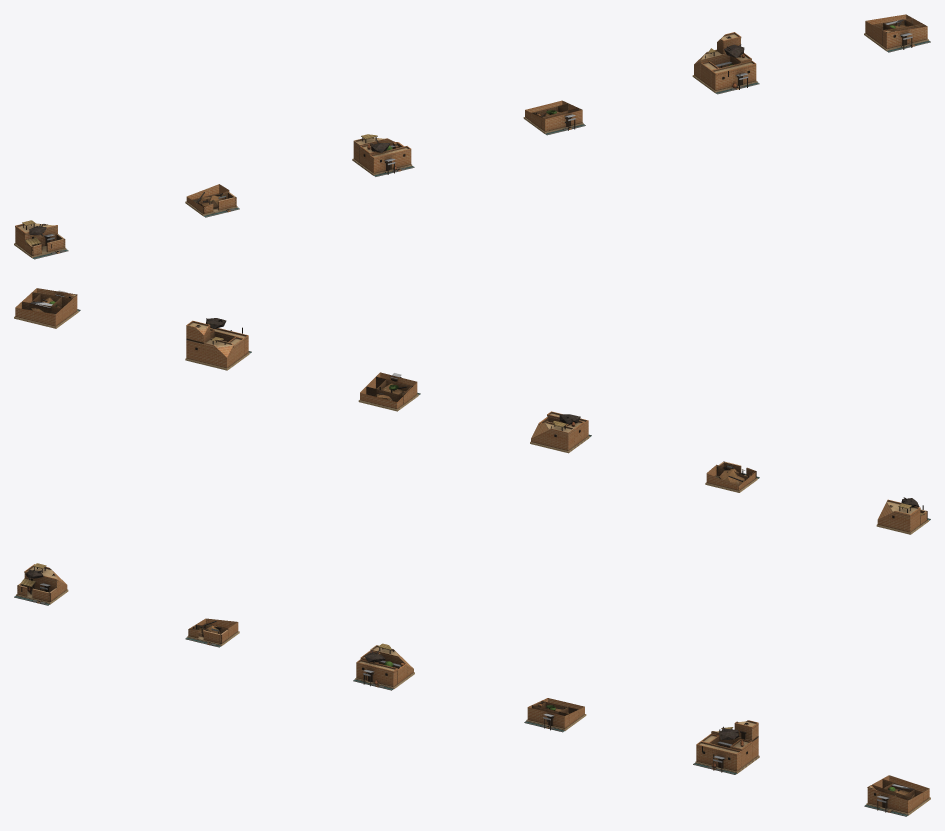
File: bronze-indic-houses-damage.glb
The picture shows the model from 3 angles, top to bottom: view 1: azimuth 30°, elevation 25°; view 2: azimuth 150°, elevation 25°; view 3: azimuth 330°, elevation 25°; orthographic projection.
Visible parts, largest first — view 1: LOD0.004, LOD0.002, LOD0.005, LOD0, LOD0.003, LOD0.001; view 2: LOD0.004, LOD0.005, LOD0.002, LOD0.003, LOD0, LOD0.001; view 3: LOD0.004, LOD0.002, LOD0.005, LOD0, LOD0.003, LOD0.001.
Part boxes in pixels (x1=…): LOD0.004: x1=692, y1=32, x2=759, y2=94; LOD0.002: x1=352, y1=134, x2=414, y2=176; LOD0.005: x1=864, y1=14, x2=930, y2=52; LOD0: x1=14, y1=220, x2=68, y2=259; LOD0.003: x1=523, y1=100, x2=585, y2=135; LOD0.001: x1=185, y1=184, x2=239, y2=217; LOD0.004: x1=185, y1=318, x2=251, y2=370; LOD0.005: x1=14, y1=288, x2=80, y2=328; LOD0.002: x1=530, y1=411, x2=591, y2=453; LOD0.003: x1=358, y1=372, x2=420, y2=411; LOD0: x1=876, y1=497, x2=930, y2=534; LOD0.001: x1=705, y1=461, x2=759, y2=492; LOD0.004: x1=693, y1=720, x2=759, y2=774; LOD0.002: x1=353, y1=643, x2=414, y2=690; LOD0.005: x1=864, y1=775, x2=930, y2=816; LOD0: x1=14, y1=563, x2=68, y2=605; LOD0.003: x1=524, y1=698, x2=586, y2=732; LOD0.001: x1=185, y1=618, x2=239, y2=647.
Size of what is drawn, in the model's own units: 15.67 by 0.6092 by 0.7765.
2 materials, 2 textured.
